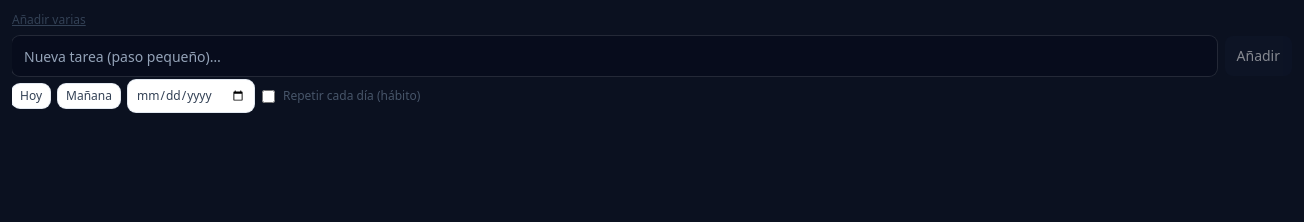
TaskQuickAdd › disables bulk add while offline or without a title
The image size is (1304, 222).
What coordinates should you click on to do the following:
click the button "Añadir varias"
I would click on:
 (49, 20)
Its box is top-left (12, 12), bottom-right (86, 28).
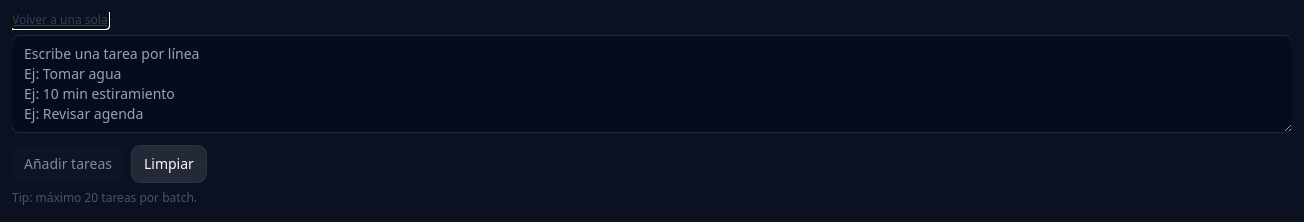
Check: the button "Añadir tareas" is disabled, box top-left (12, 146), bottom-right (124, 182)
